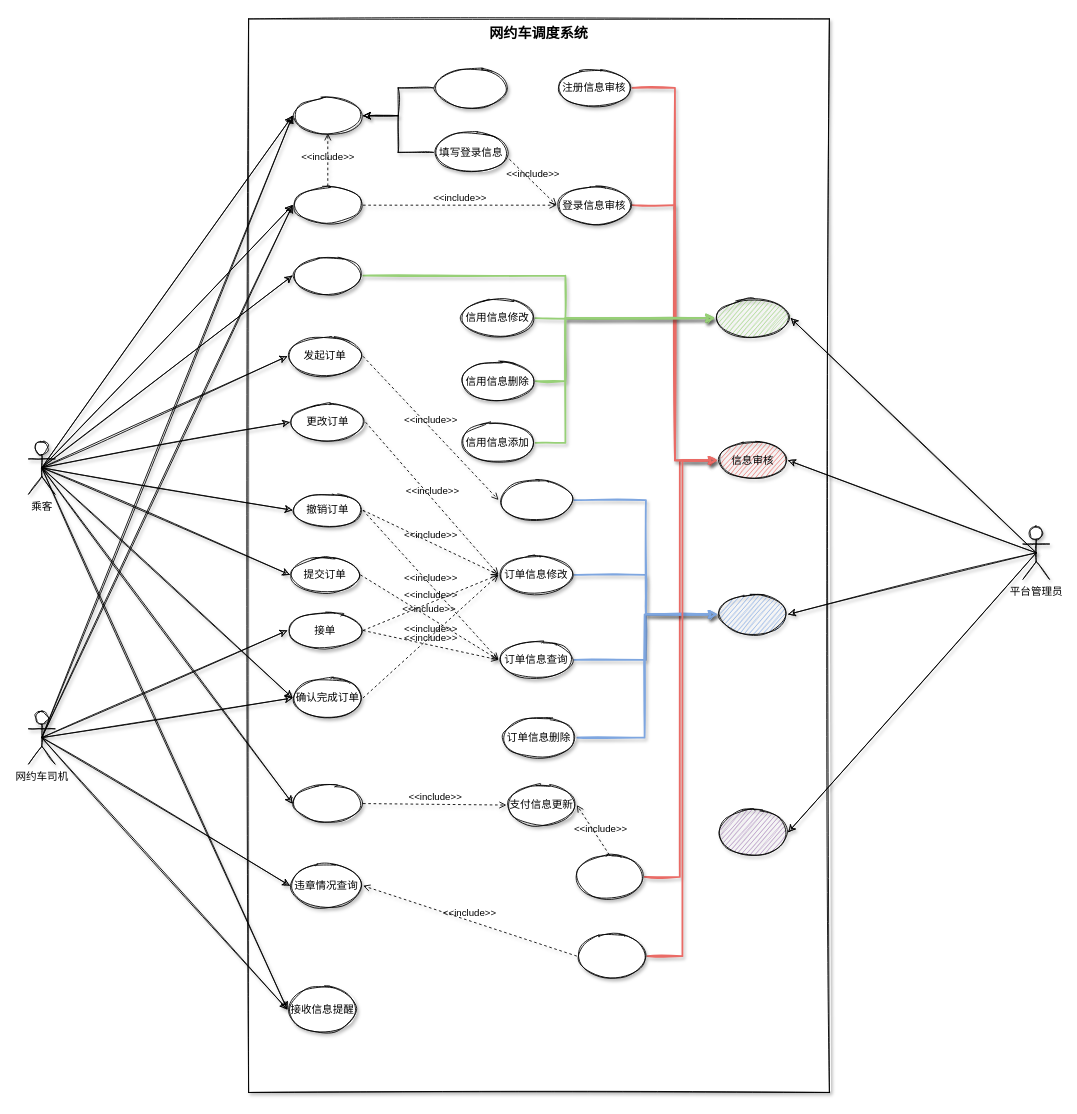
Image size: 1077x1114. Some labels were removed from this diagram. The centre of each missing label's shape, as x and y in pixels:
信用信息查询: the point at 328,276
信用信息管理: the point at 753,319
填写信息: the point at 328,116
填写注册信息: the point at 471,88
支付: the point at 328,804
支付信息审核: the point at 610,878
管理消息提醒: the point at 753,833
订单信息添加: the point at 536,501
订单信息管理: the point at 753,615
身份认证: the point at 328,206
违章情况审核: the point at 612,957
